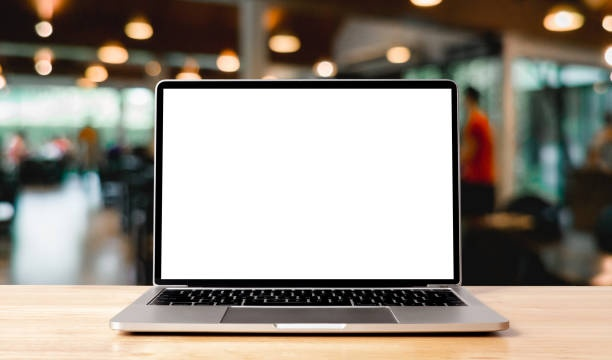laptop: (92, 66, 519, 350)
